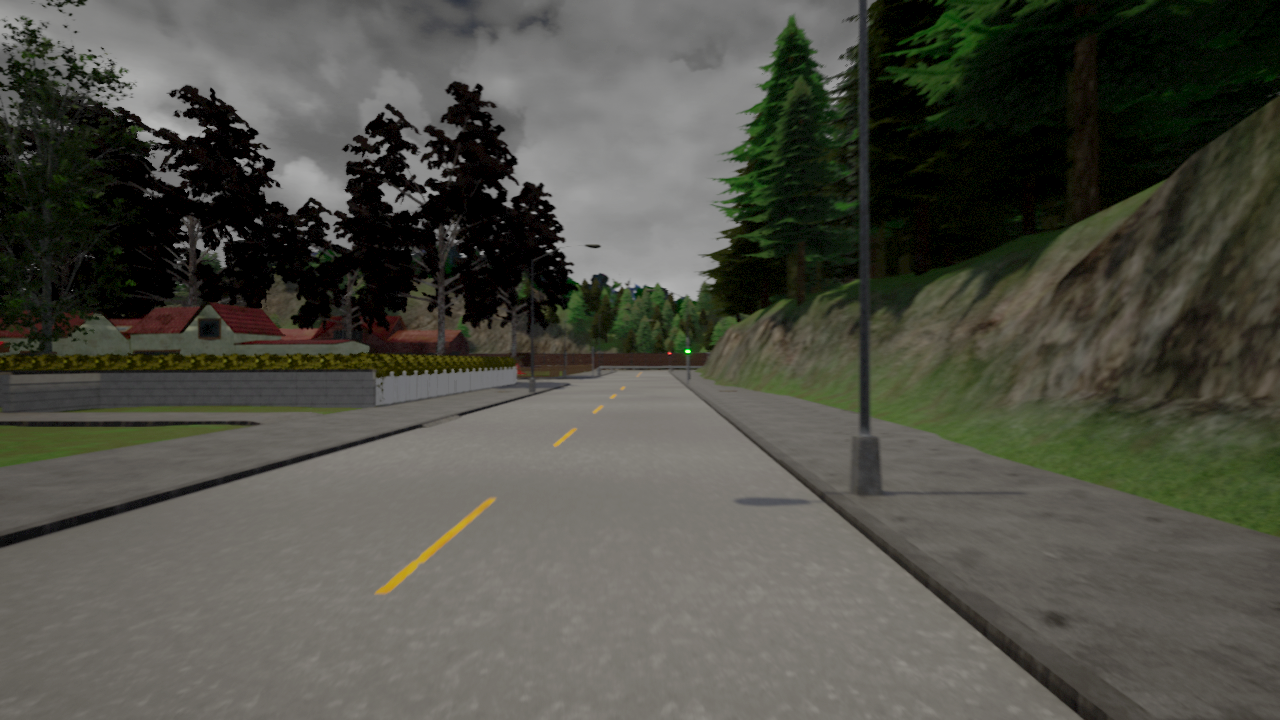green: (684, 342, 691, 356)
